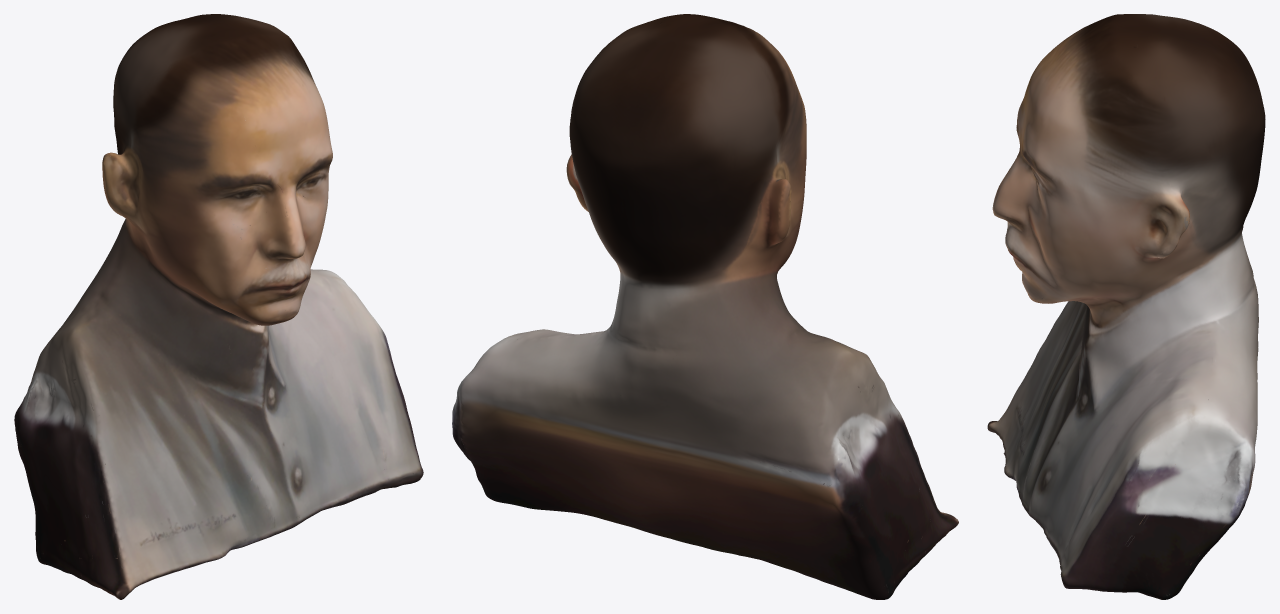
The model's file is SYS.glb.
3 views of the same model, side by side, from view 1: azimuth 30°, elevation 25°; view 2: azimuth 150°, elevation 25°; view 3: azimuth 270°, elevation 25° (orthographic). The views are drawn at different scales.
Visible parts, largest first — view 1: Retopo_model; view 2: Retopo_model; view 3: Retopo_model.
Part boxes in pixels (x1=…): Retopo_model: x1=14, y1=14, x2=423, y2=599; Retopo_model: x1=452, y1=14, x2=958, y2=599; Retopo_model: x1=987, y1=14, x2=1265, y2=599.
Size of the model in its own units: 0.7451 by 0.9633 by 0.4793.
1 material, 1 textured.
